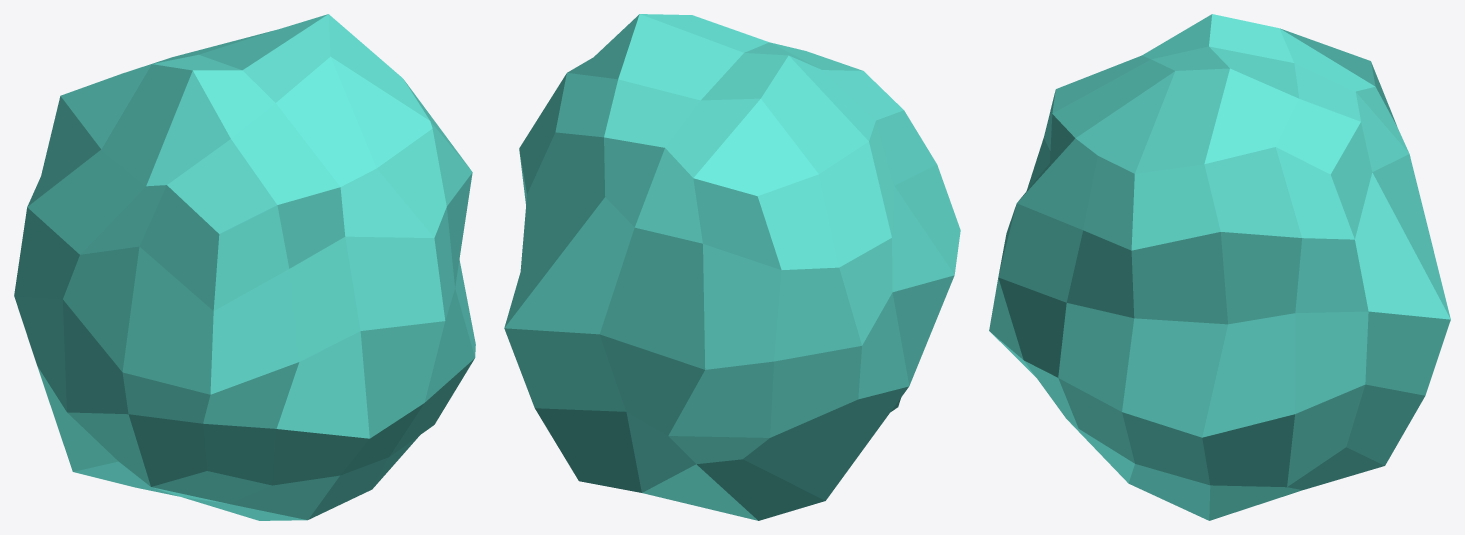
The model's file is Astroid 2.fbx.
The picture shows the model from 3 angles, left to right: view 1: azimuth 30°, elevation 25°; view 2: azimuth 150°, elevation 25°; view 3: azimuth 270°, elevation 25°; orthographic projection. The views are drawn at different scales.
Visible parts, largest first — view 1: Asdtroid 2; view 2: Asdtroid 2; view 3: Asdtroid 2.
Part boxes in pixels (<box>): Asdtroid 2: <box>14,14,475,520</box>; Asdtroid 2: <box>504,14,960,520</box>; Asdtroid 2: <box>989,14,1450,520</box>.
Bounding box in the file's own units: 45.44 × 53.98 × 48.76.
